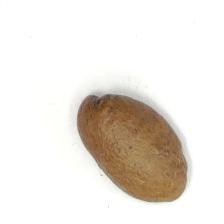NG: (84, 94, 129, 112)
